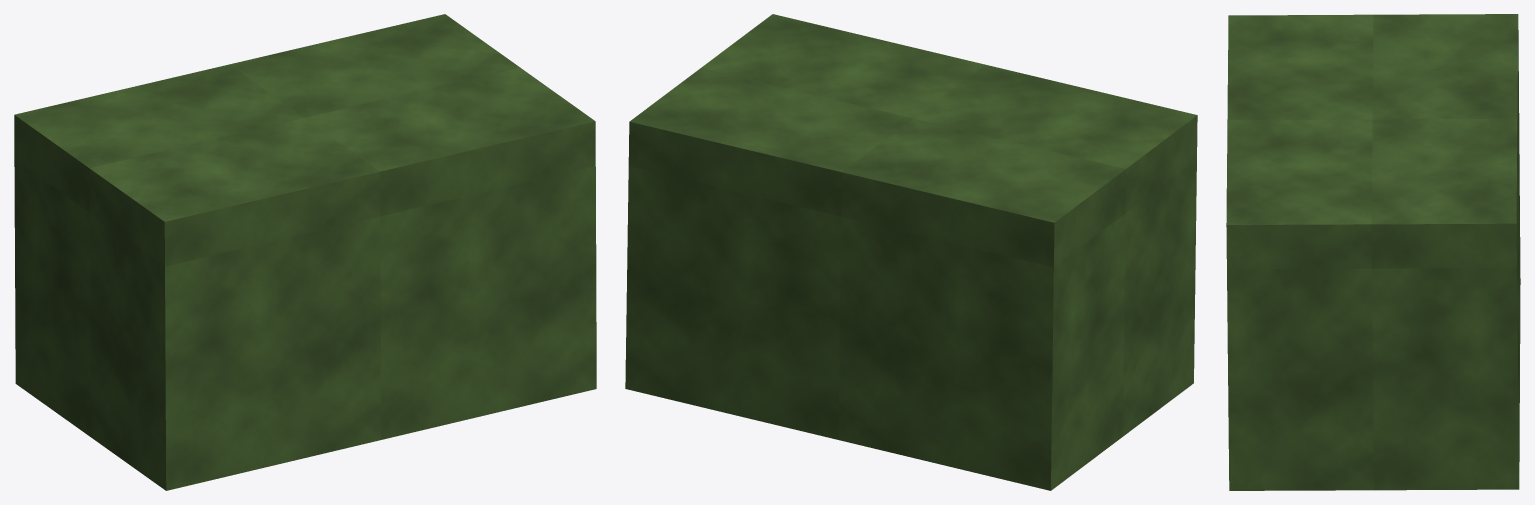
The model's file is Hedge_Trimmed_2_LOD1.gltf.
The picture shows the model from 3 angles, left to right: view 1: azimuth 30°, elevation 25°; view 2: azimuth 150°, elevation 25°; view 3: azimuth 270°, elevation 25°; orthographic projection.
Visible parts, largest first — view 1: Hedge_Trimmed_2_LOD1; view 2: Hedge_Trimmed_2_LOD1; view 3: Hedge_Trimmed_2_LOD1.
Boxes of the visible parts, bbox=[...] form: Hedge_Trimmed_2_LOD1: bbox=[14, 14, 596, 490]; Hedge_Trimmed_2_LOD1: bbox=[625, 14, 1197, 490]; Hedge_Trimmed_2_LOD1: bbox=[1226, 14, 1520, 490].
Size of the model in its own units: 2.03 by 1.21 by 1.21.
1 material, 1 textured.
